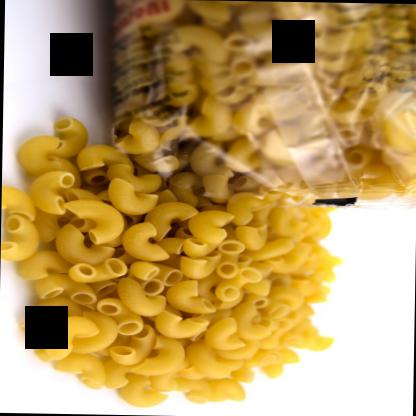pasta: (0, 124, 335, 406)
